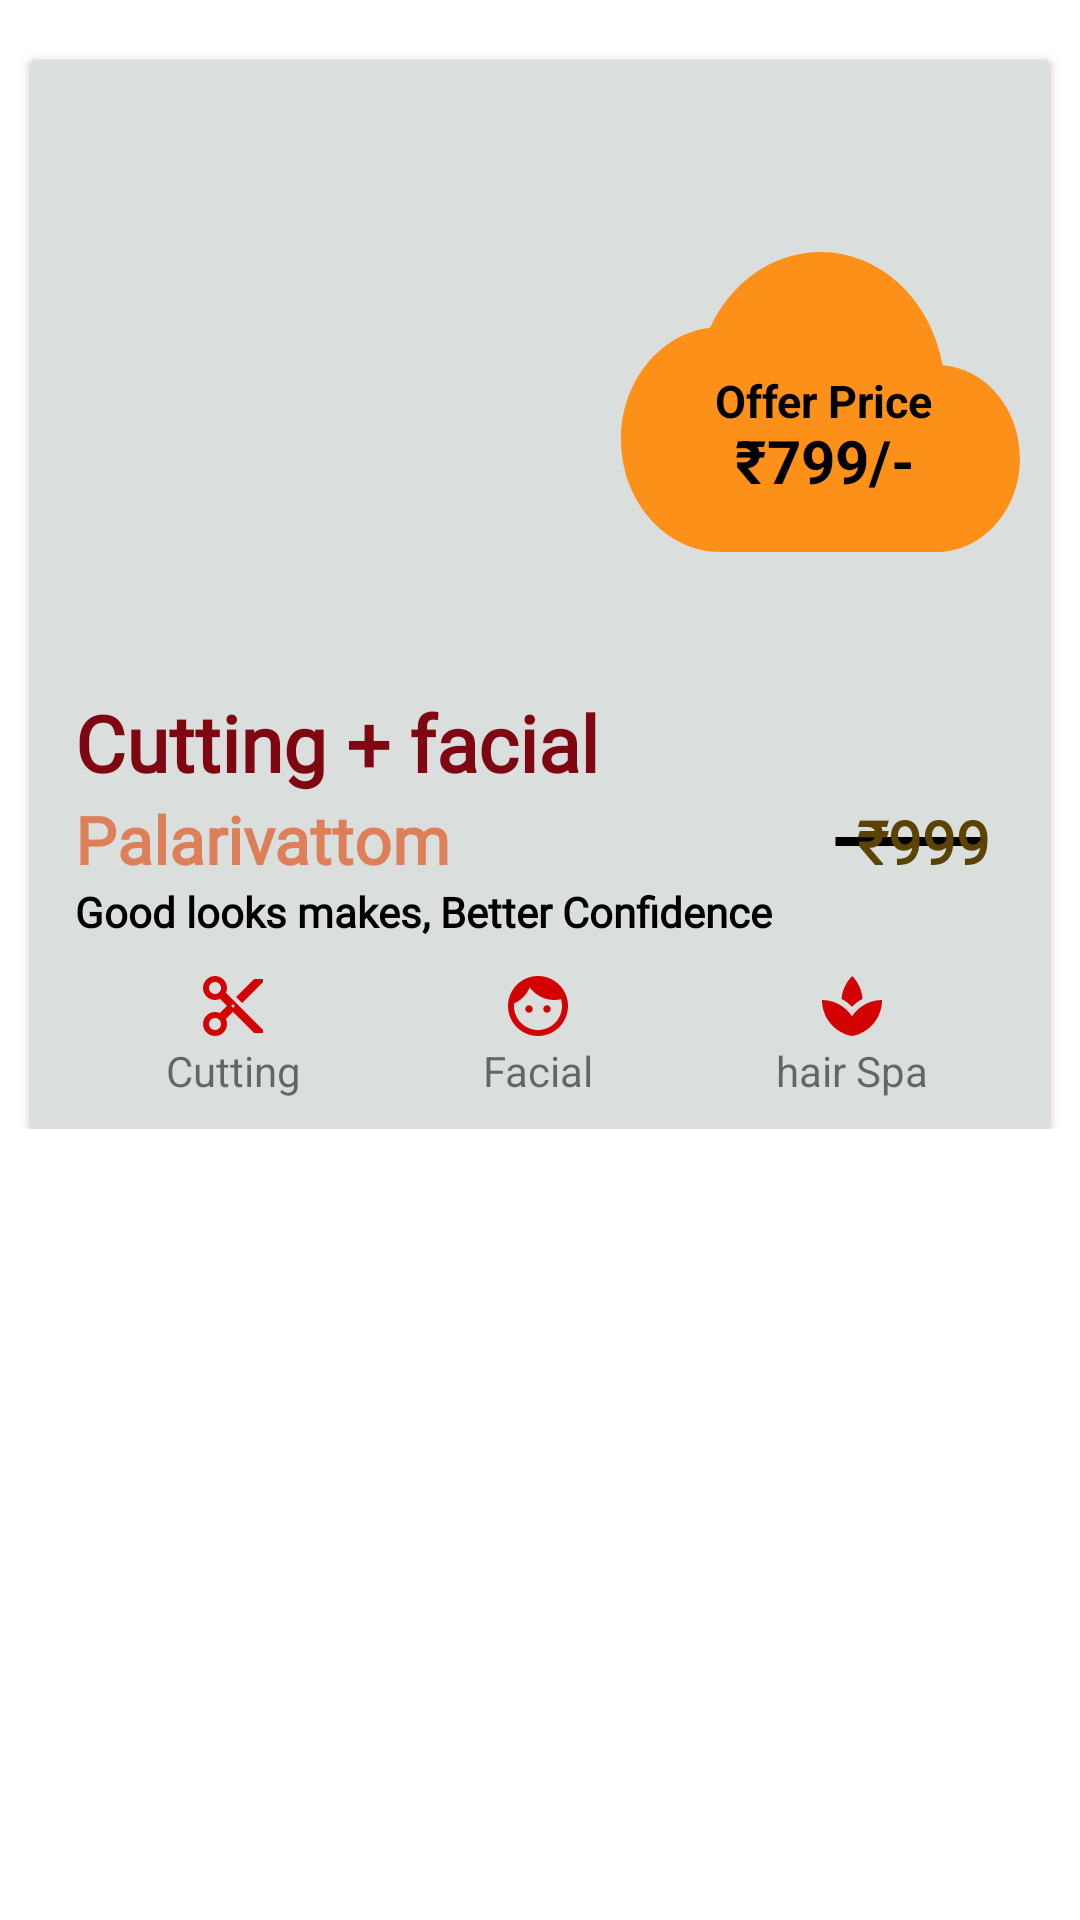

Point at icon controls on the screen. Image size 1080 × 1920, points as point (x, y).
content cut: point (233, 1006)
face: point (538, 1006)
